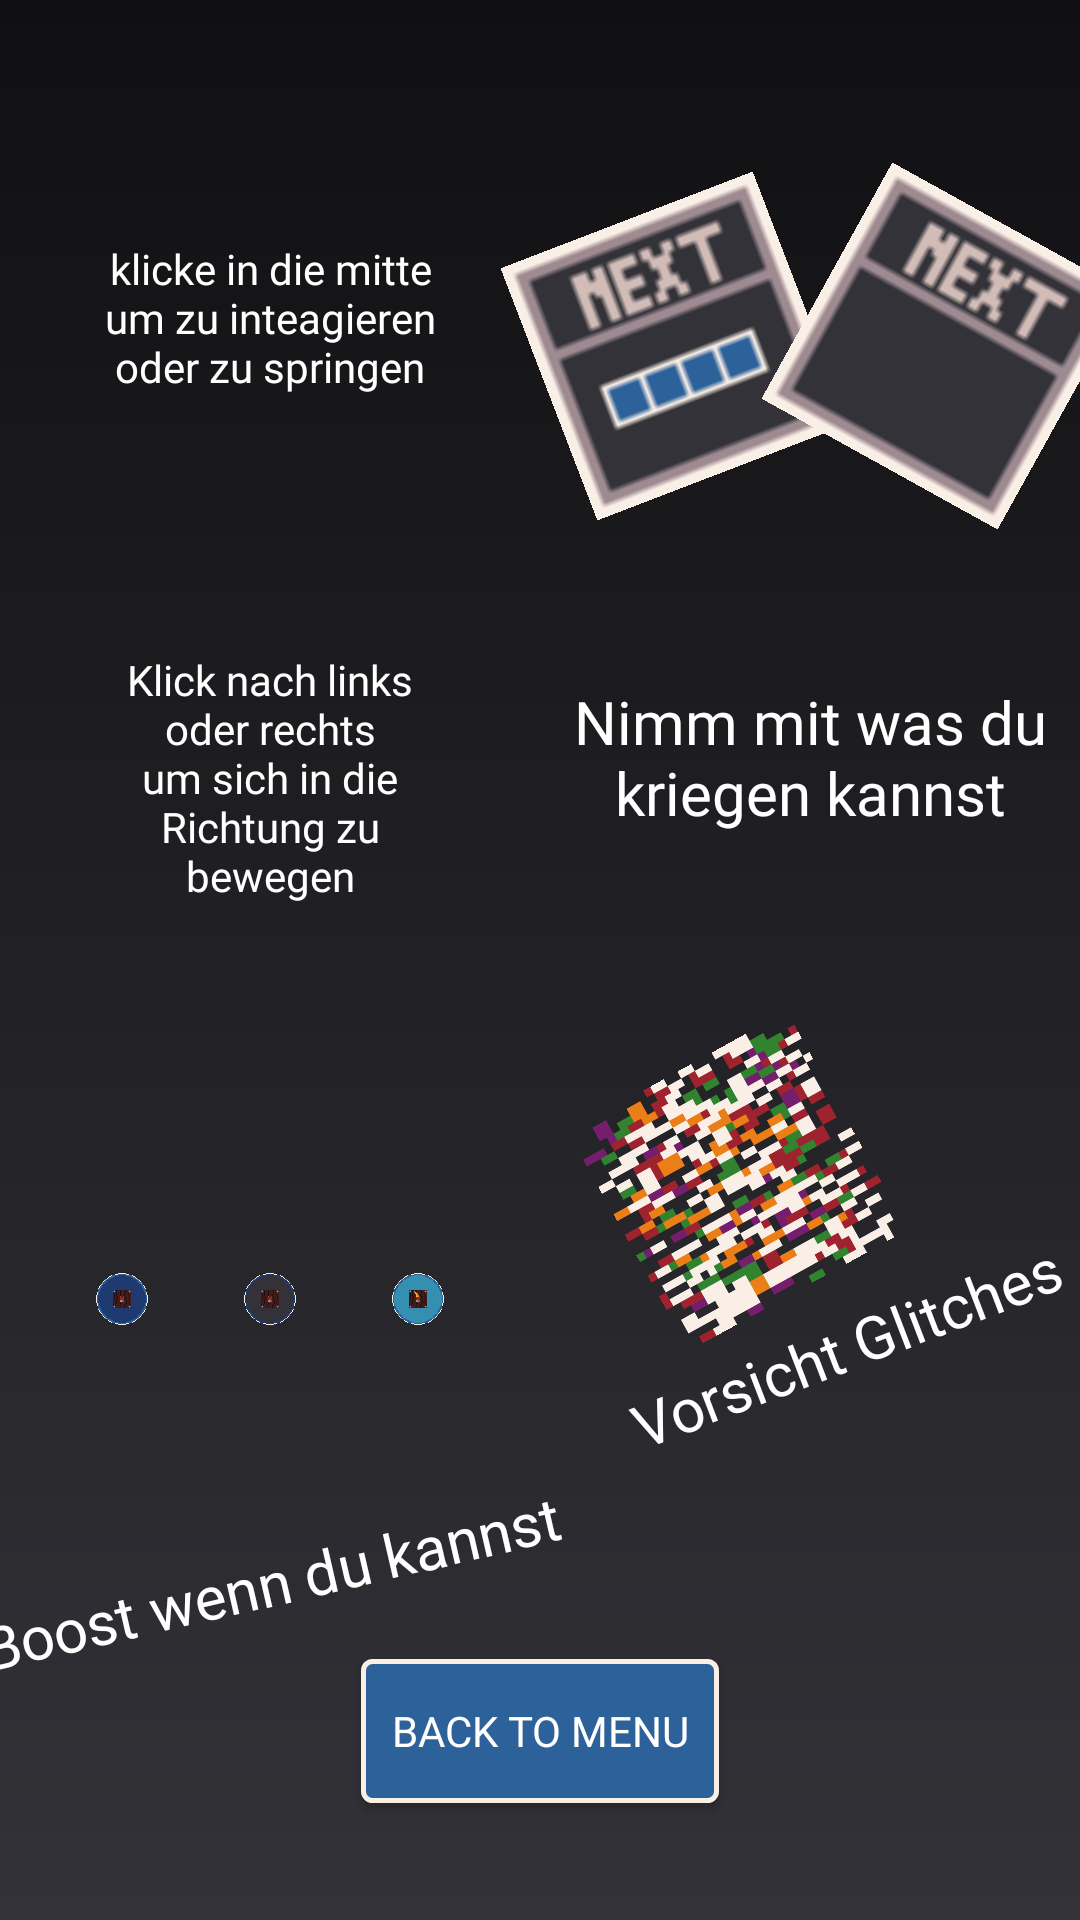

Point at icon controls on the screen. Image size 1080px×1920px, points as (x=x, y=y).
orbaktive: (x=418, y=1299)
orbdeaktive: (x=270, y=1299)
orbinaktive: (x=122, y=1299)
